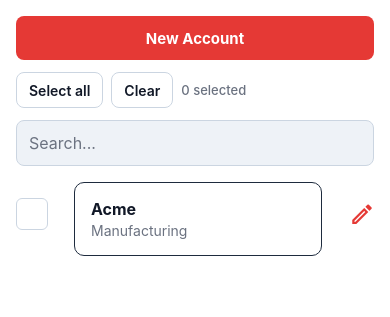
Test: CRM read-only routes › shows Delete selected when at least one row is selected
The image size is (390, 317).
Click the checkbox with test id "crm-accounts-item-0-select" at coordinates (32, 214), box left=16, top=198, right=48, bottom=230
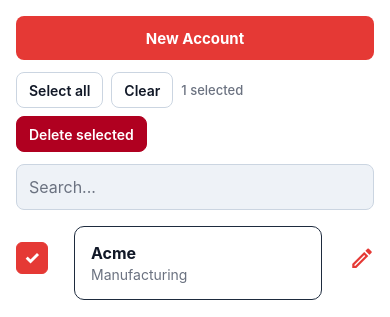
Expected: the element with test id "crm-accounts-delete-selected" is shown, left=16, top=116, right=147, bottom=152
